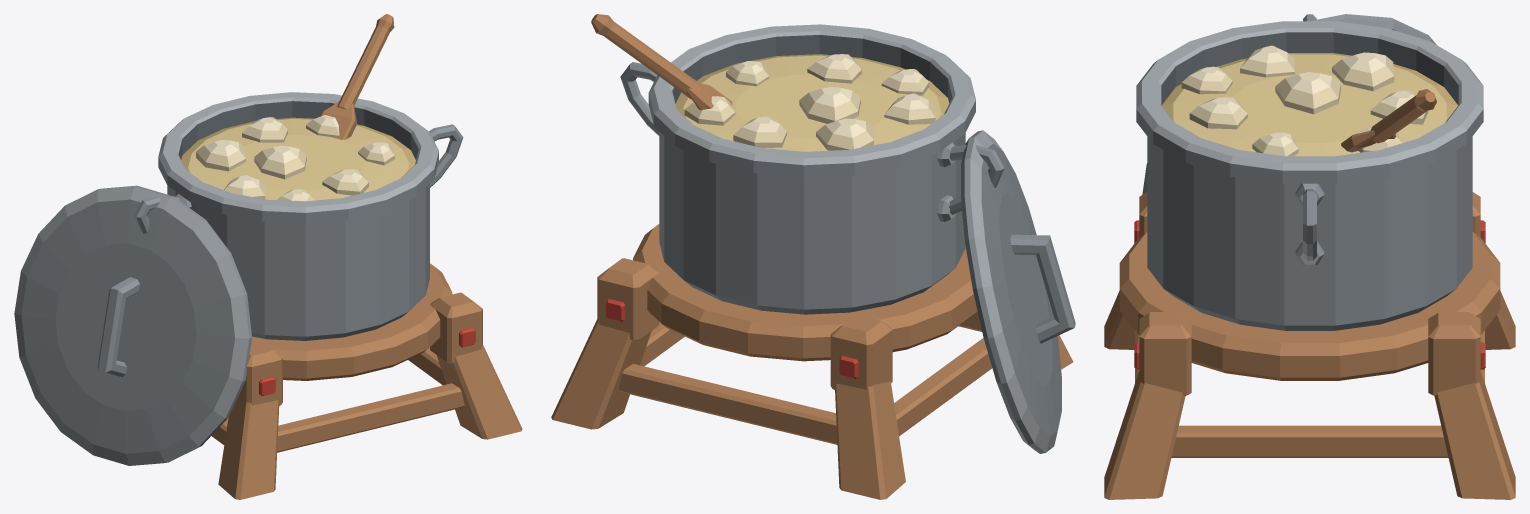
File: FMS_Workshop_STA_01.fbx
3 renders of one model, left to right at view 1: azimuth 30°, elevation 25°; view 2: azimuth 150°, elevation 25°; view 3: azimuth 270°, elevation 25°, orthographic. The views are drawn at different scales.
Parts seen in each view (by area): view 1: FMS_Workshop_STA_01_Body, FMS_Workshop_STA_01_Lid, FMS_Workshop_STA_01_Paddle; view 2: FMS_Workshop_STA_01_Body, FMS_Workshop_STA_01_Lid, FMS_Workshop_STA_01_Paddle; view 3: FMS_Workshop_STA_01_Body, FMS_Workshop_STA_01_Paddle, FMS_Workshop_STA_01_Lid.
Boxes of the visible parts, <box> form: FMS_Workshop_STA_01_Body: <box>134,92,522,499</box>; FMS_Workshop_STA_01_Lid: <box>14,185,251,465</box>; FMS_Workshop_STA_01_Paddle: <box>313,14,394,139</box>; FMS_Workshop_STA_01_Body: <box>551,24,1073,499</box>; FMS_Workshop_STA_01_Lid: <box>961,130,1075,453</box>; FMS_Workshop_STA_01_Paddle: <box>591,14,732,118</box>; FMS_Workshop_STA_01_Body: <box>1104,14,1515,499</box>; FMS_Workshop_STA_01_Paddle: <box>1341,89,1436,152</box>; FMS_Workshop_STA_01_Lid: <box>1142,14,1436,194</box>.
Size of what is drawn, in the model's own units: 1.41 by 1.11 by 1.03.
1 material, 1 textured.
